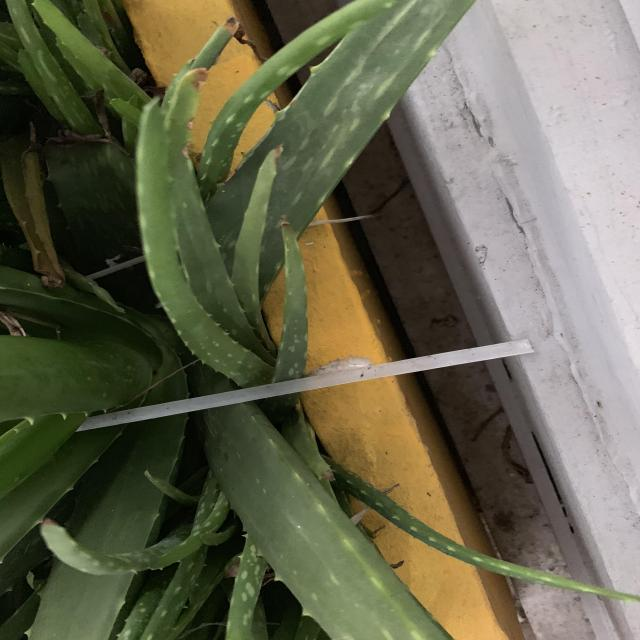litter: (77, 338, 537, 435)
